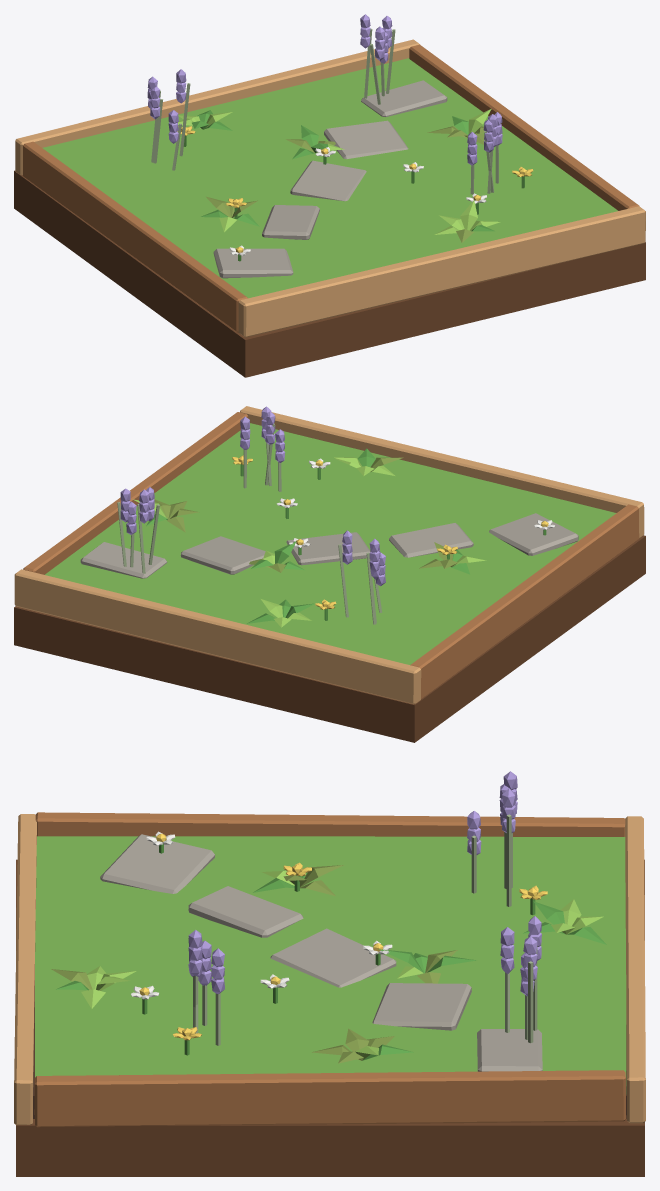
Rendered from green_roof_tile.glb.
3 views of the same model, one above another, from view 1: azimuth 30°, elevation 25°; view 2: azimuth 150°, elevation 25°; view 3: azimuth 270°, elevation 25° (orthographic). The views are drawn at different scales.
Parts seen in each view (by area): view 1: Green Roof Tile; view 2: Green Roof Tile; view 3: Green Roof Tile.
Boxes of the visible parts, x1,y1,x2,y2 form: Green Roof Tile: (14, 14, 645, 377); Green Roof Tile: (14, 406, 645, 742); Green Roof Tile: (14, 771, 645, 1176).
Size of the model in its own units: 2.01 by 0.7068 by 2.01.
Materials: 1 (1 with a texture image).
